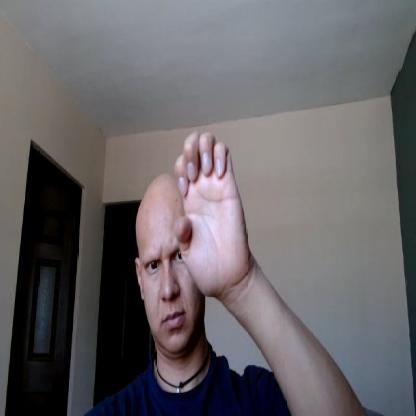E: (174, 132, 248, 294)
